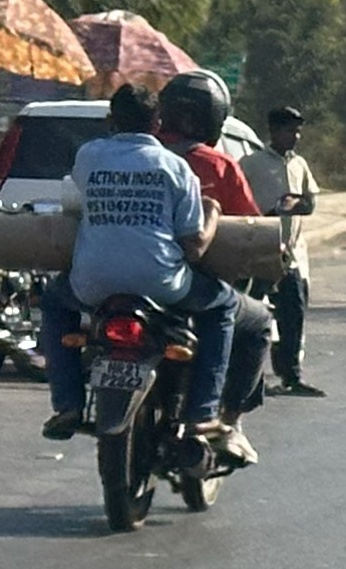BikeWithRider: (29, 65, 287, 541)
Helmet: (160, 65, 236, 150)
NoHelmet: (101, 78, 168, 145)
